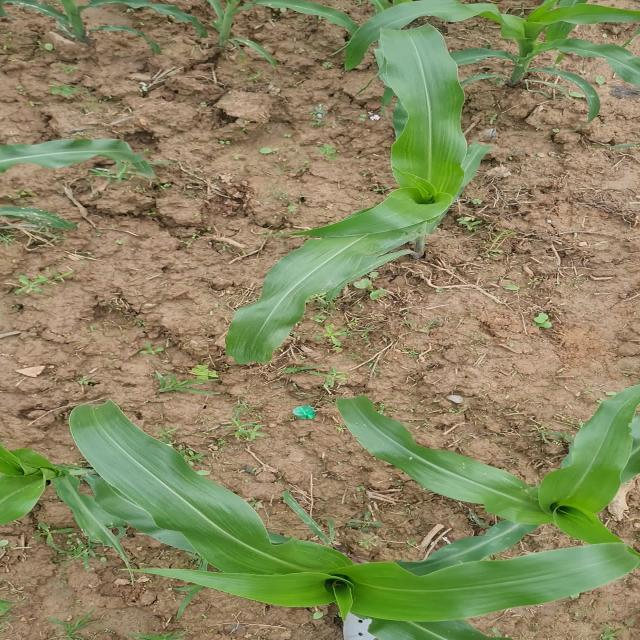maize: (18, 405, 640, 630), (0, 0, 634, 112), (293, 43, 480, 335), (0, 130, 113, 240)
